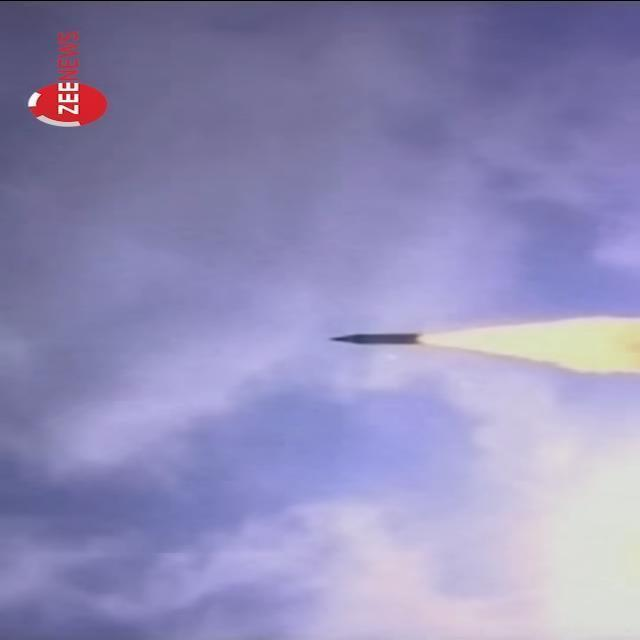missile: (328, 331, 422, 348)
